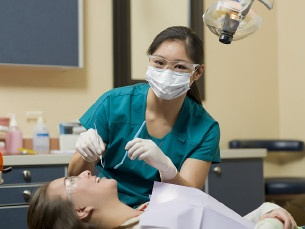Mask: (145, 51, 195, 100)
